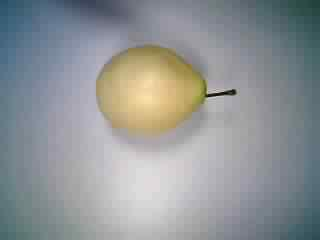pear: (83, 30, 242, 146)
